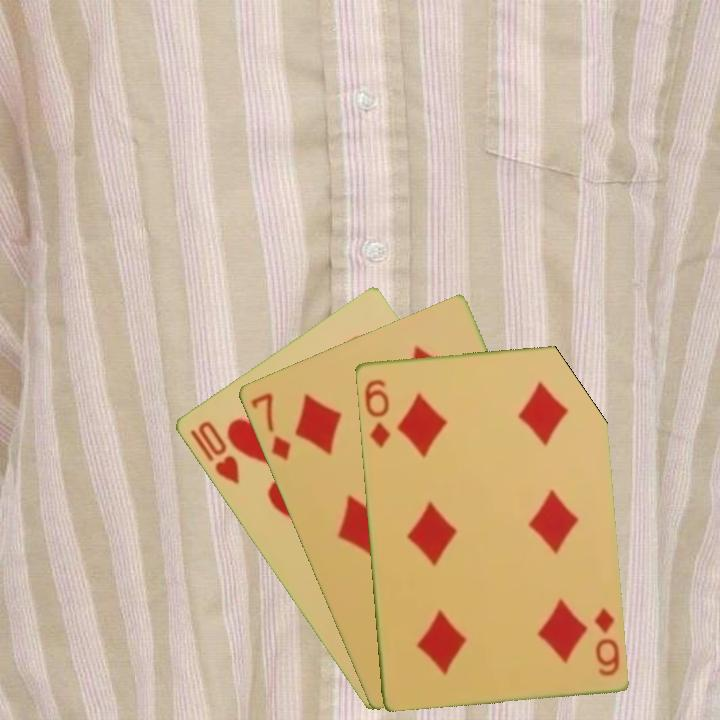10h: (193, 417, 242, 487)
6d: (360, 375, 393, 451), (590, 603, 622, 678)
7d: (247, 388, 294, 464)
